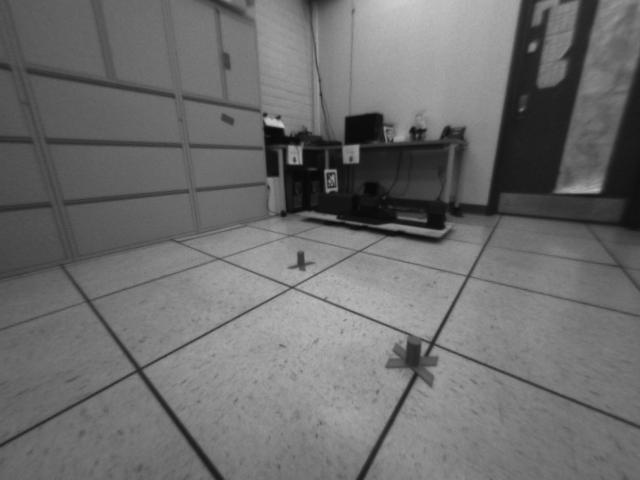X: (383, 334, 441, 389), (286, 249, 317, 274)
